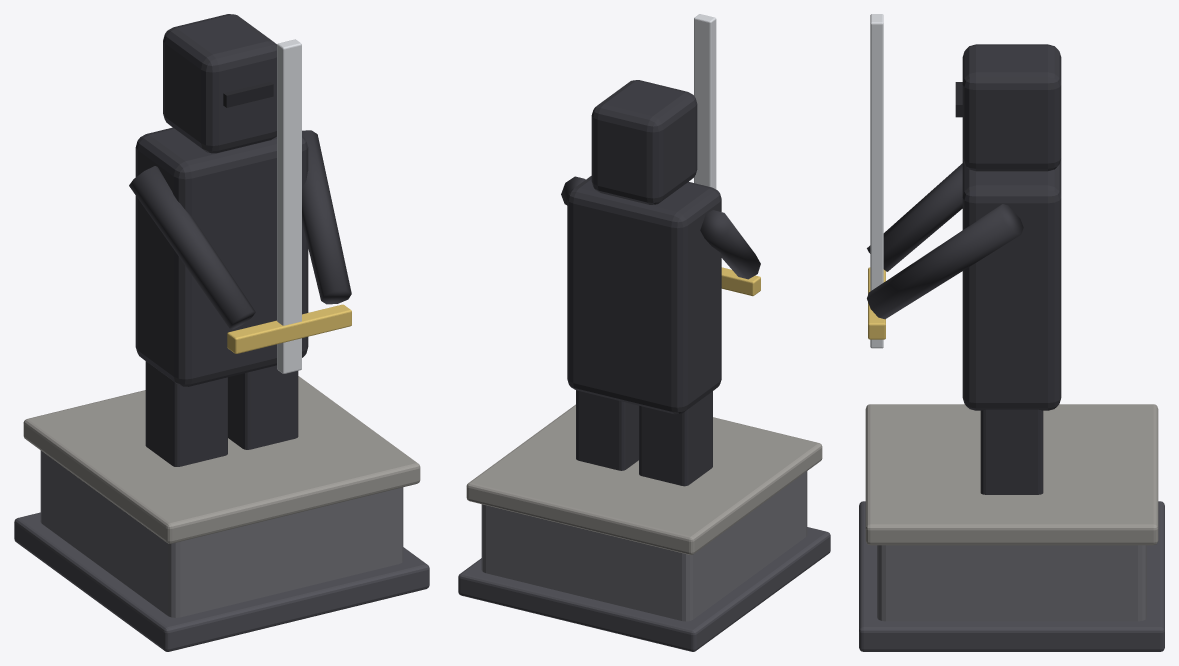
The model's file is statue_knight.glb.
The picture shows the model from 3 angles, left to right: view 1: azimuth 30°, elevation 25°; view 2: azimuth 150°, elevation 25°; view 3: azimuth 270°, elevation 25°; orthographic projection. The views are drawn at different scales.
Parts seen in each view (by area): view 1: GD_statue_knight__m2, GD_statue_knight__m3, GD_statue_knight__m0, GD_statue_knight__m1, GD_statue_knight__m5, GD_statue_knight__m6, GD_statue_knight__m4; view 2: GD_statue_knight__m2, GD_statue_knight__m3, GD_statue_knight__m0, GD_statue_knight__m1, GD_statue_knight__m5, GD_statue_knight__m6; view 3: GD_statue_knight__m2, GD_statue_knight__m3, GD_statue_knight__m0, GD_statue_knight__m1, GD_statue_knight__m5, GD_statue_knight__m6.
Boxes of the visible parts, left/top/right/bottom form: GD_statue_knight__m2: left=129, top=14, right=351, bottom=466; GD_statue_knight__m3: left=23, top=376, right=420, bottom=543; GD_statue_knight__m0: left=40, top=450, right=403, bottom=617; GD_statue_knight__m1: left=14, top=512, right=429, bottom=651; GD_statue_knight__m5: left=277, top=39, right=301, bottom=373; GD_statue_knight__m6: left=227, top=304, right=351, bottom=353; GD_statue_knight__m4: left=223, top=82, right=273, bottom=107; GD_statue_knight__m2: left=561, top=80, right=760, bottom=486; GD_statue_knight__m3: left=466, top=404, right=822, bottom=554; GD_statue_knight__m0: left=481, top=471, right=807, bottom=621; GD_statue_knight__m1: left=458, top=527, right=830, bottom=651; GD_statue_knight__m5: left=694, top=14, right=716, bottom=189; GD_statue_knight__m6: left=721, top=267, right=760, bottom=296; GD_statue_knight__m2: left=867, top=44, right=1061, bottom=494; GD_statue_knight__m3: left=865, top=404, right=1158, bottom=545; GD_statue_knight__m0: left=877, top=545, right=1146, bottom=621; GD_statue_knight__m1: left=859, top=501, right=1164, bottom=651; GD_statue_knight__m5: left=870, top=14, right=883, bottom=348; GD_statue_knight__m6: left=868, top=267, right=885, bottom=339.
Size of the model in its own units: 0.68 by 1.4 by 0.68.
